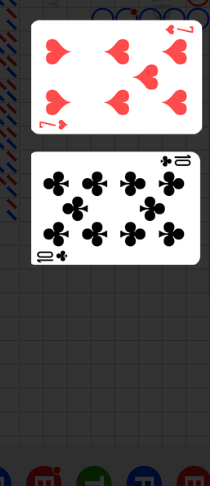10C: (35, 248, 70, 263)
7H: (163, 24, 195, 36)
